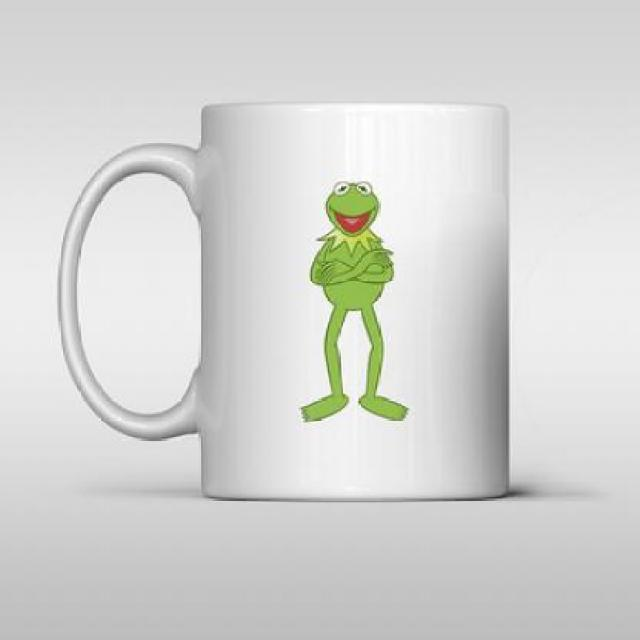taza: (56, 103, 510, 500)
